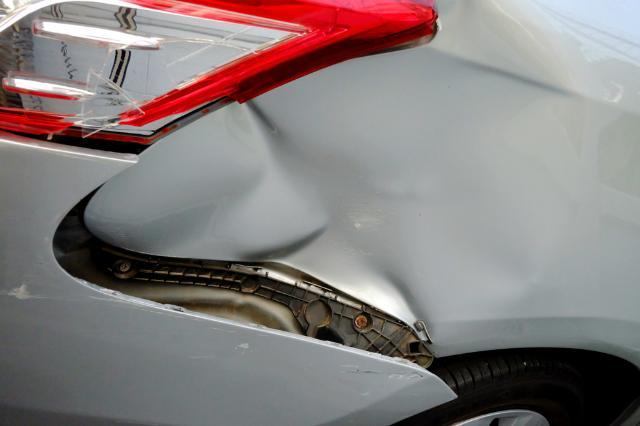dent: (133, 95, 570, 330)
dislocated part: (0, 134, 459, 426)
